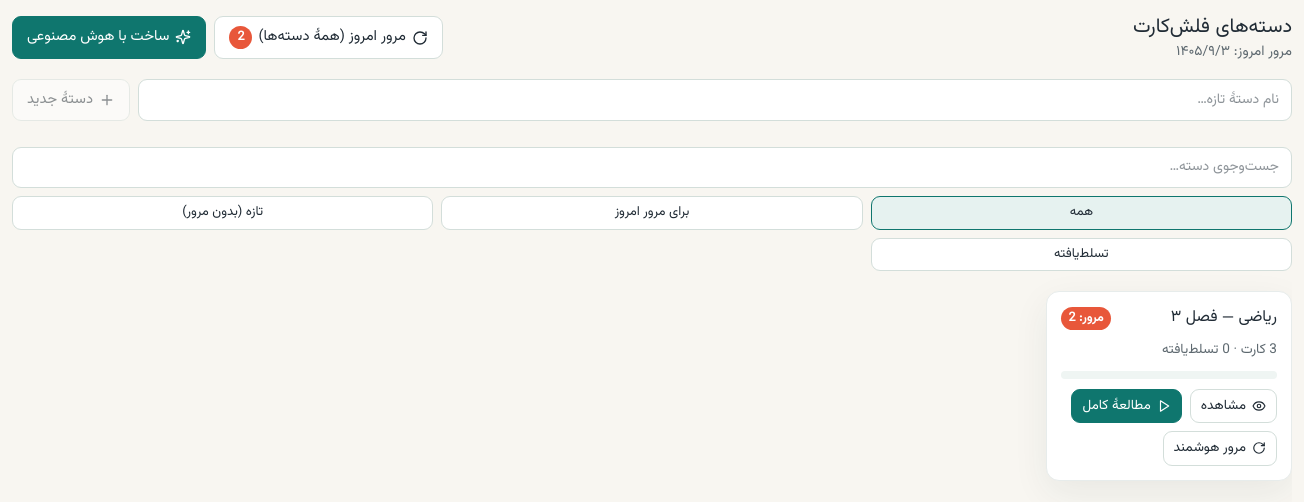
Scenario: FlashcardsWorkspace — Phase 03 library, card details, generation preview › shows an empty-library message when the filter matches nothing
Click the button "تسلط‌یافته": (1081, 255) [871,238,1292,272]
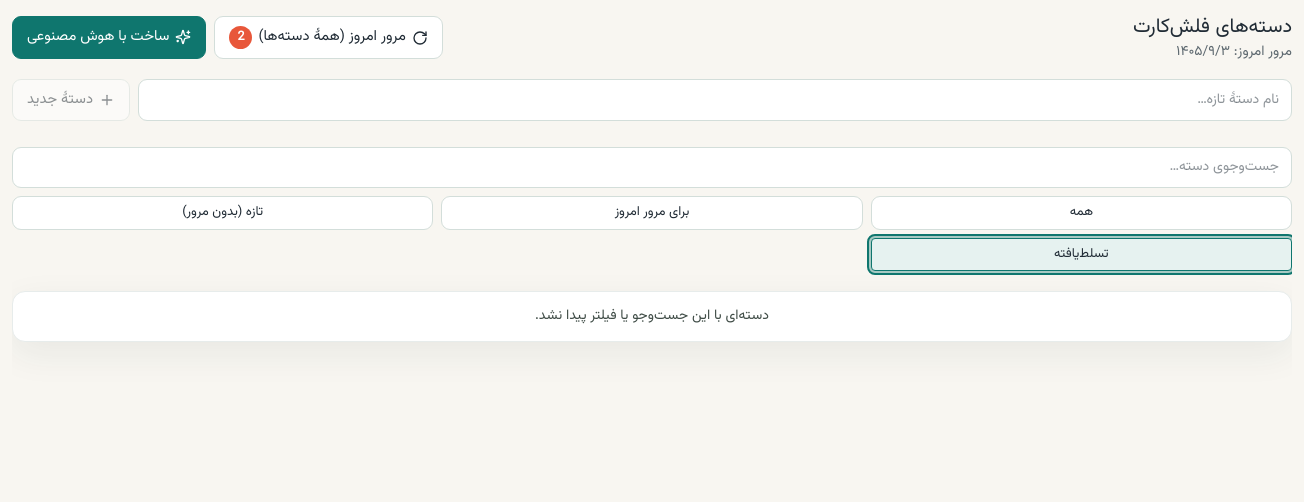
Check: the text "دسته‌ای با این جست‌وجو یا فیلتر پیدا نشد." is shown, box [12,292,1292,342]
